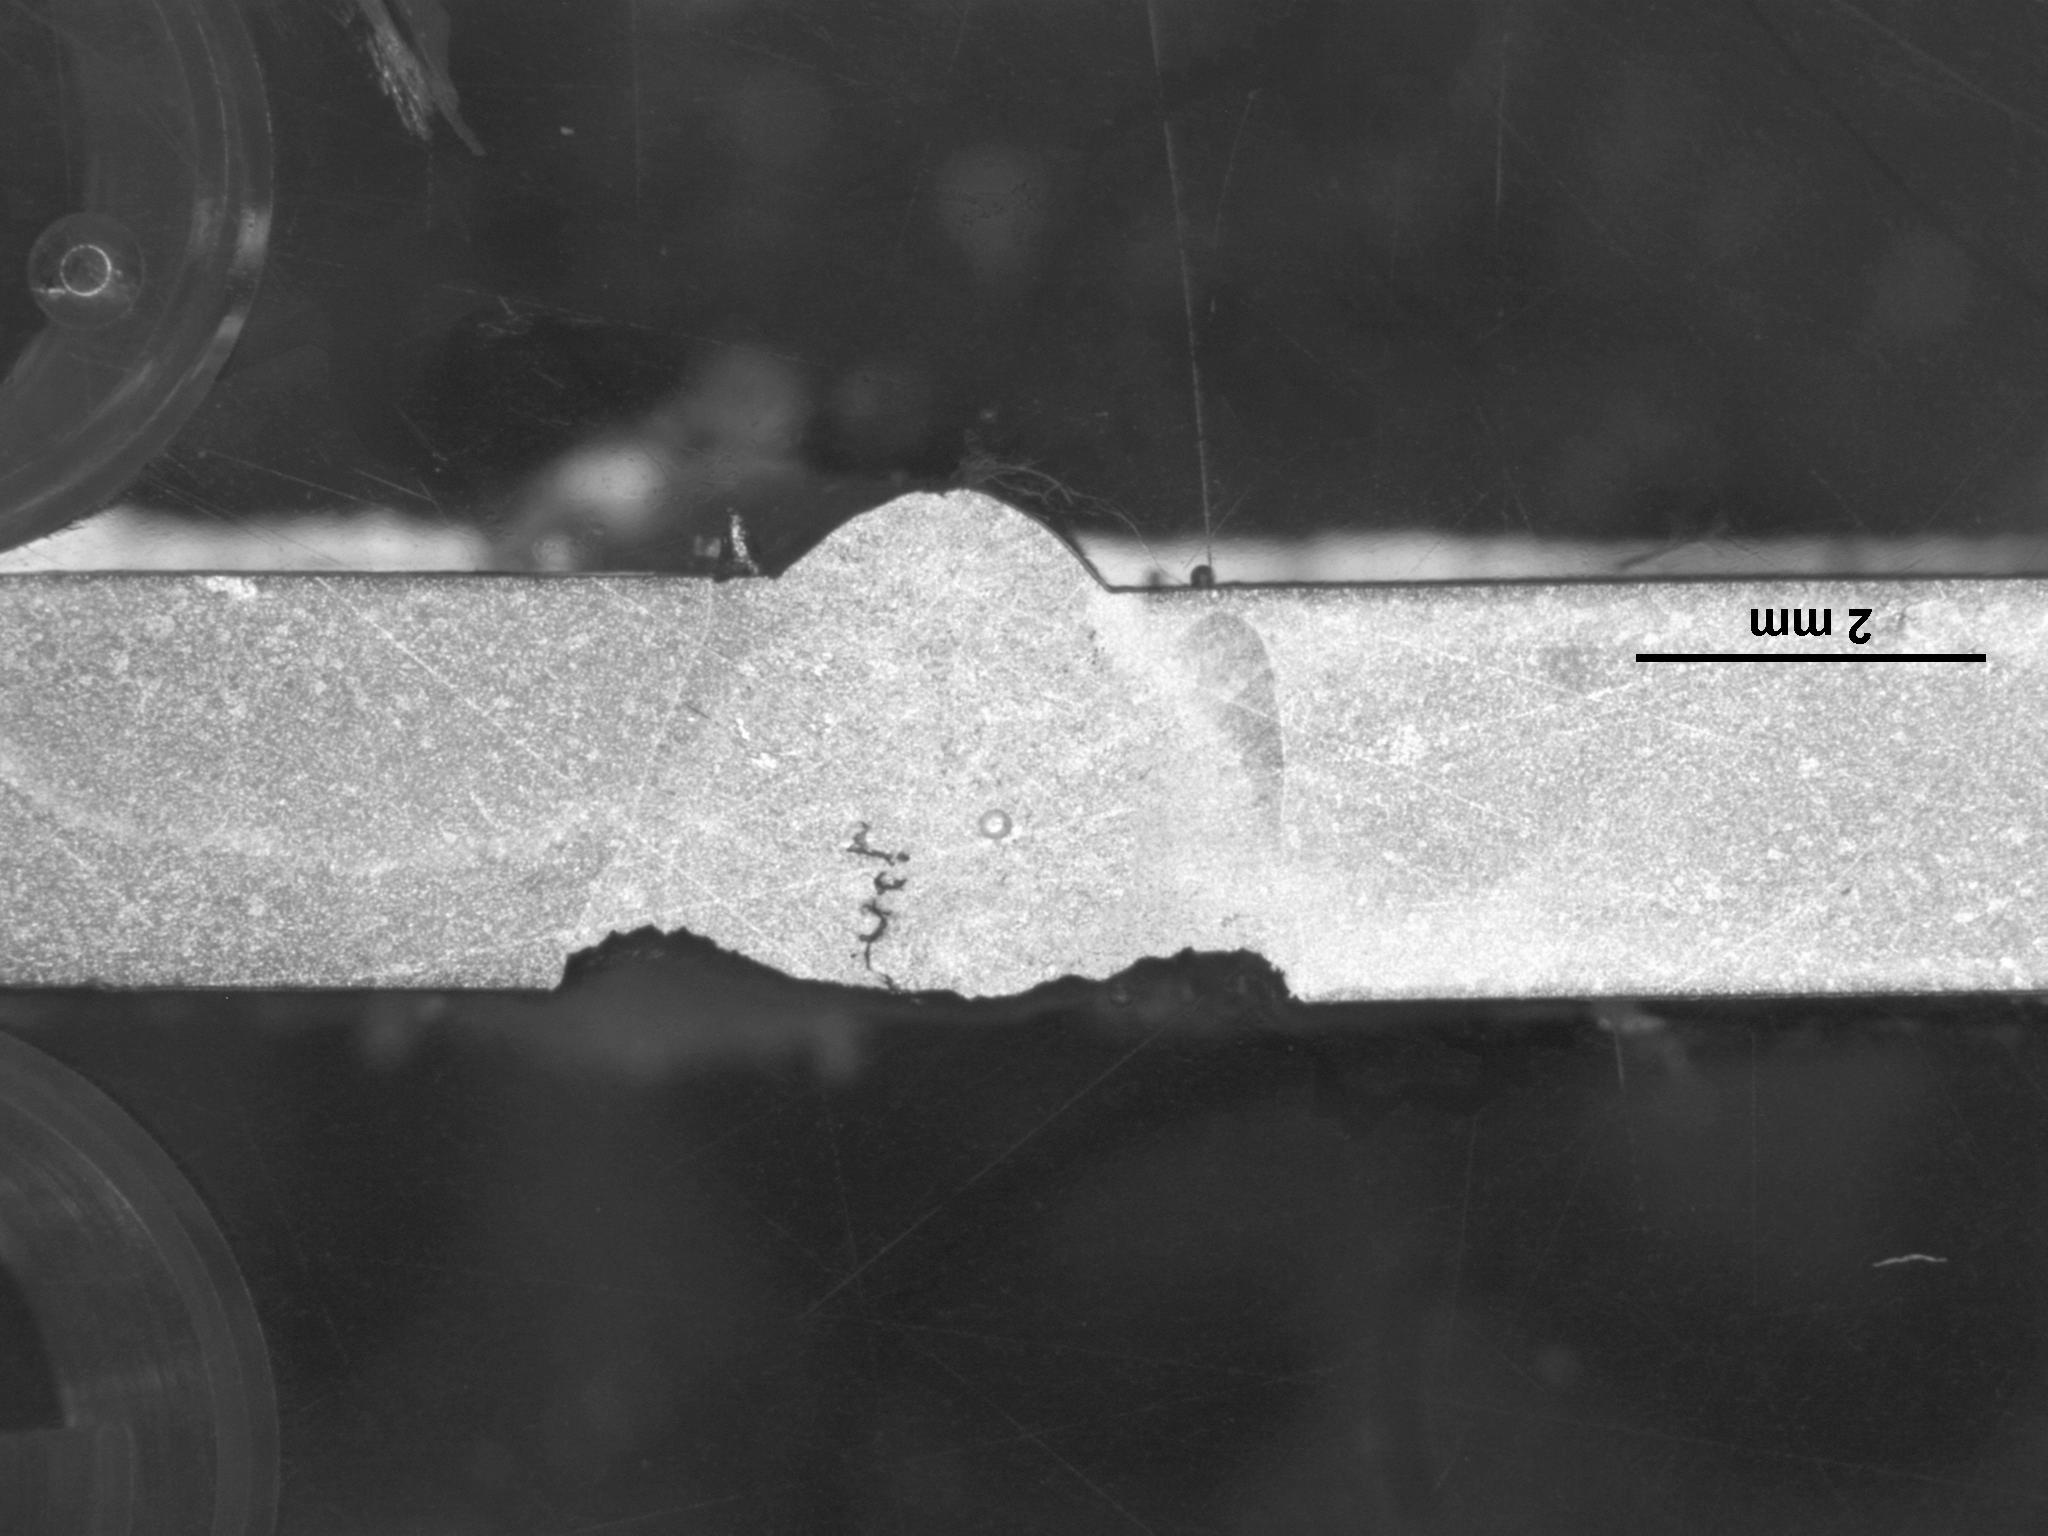Scale-bar: (1629, 602, 1995, 671)
